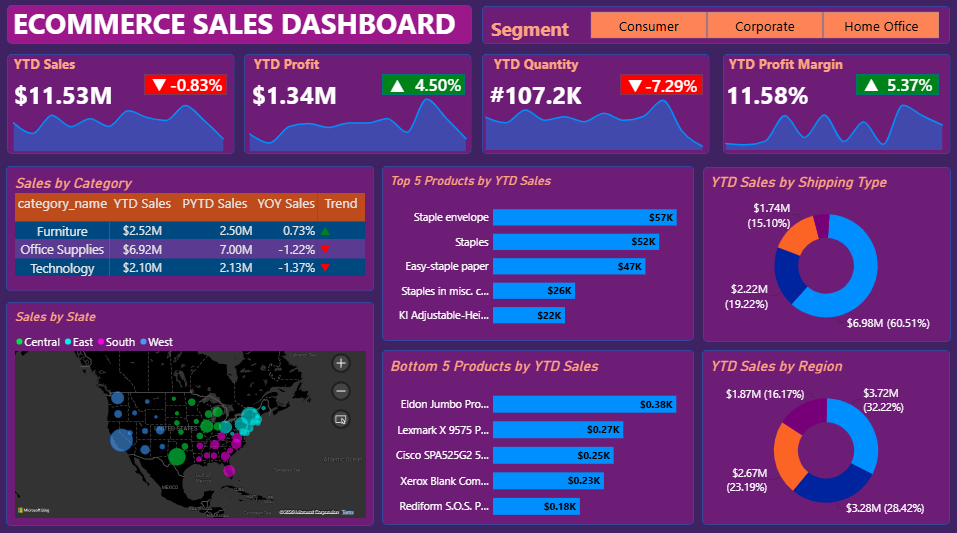

This screenshot's page, from the dashboard's own definition file:
{"tool":"powerbi","page":{"name":"Page 1","canvas":[1920,1080],"ordinal":0},"visuals":[{"type":"shape","box":[1409.2,337.3,496,350],"z":0},{"type":"shape","box":[16,608,736,448],"z":1000},{"type":"shape","box":[1408,704,496,350],"z":2000},{"type":"shape","box":[960,16,944,76],"z":3000},{"type":"shape","box":[18,14,930,78],"z":4000},{"type":"textbox","box":[30,12,912,80],"z":5000},{"type":"textbox","box":[986,36,174,56],"z":6000},{"type":"donutChart","title":"YTD Sales by Shipping Type","fields":{"Category":["ecommerce_data.shipping_type"],"Y":["ecommerce_data.YTD Sales"]},"box":[1408,336,496,352],"z":7000},{"type":"shape","box":[17.3,111.8,455,200],"z":8000},{"type":"shape","box":[15.4,335.4,736.4,250.6],"z":9000},{"type":"shape","box":[492.2,112.2,455,200],"z":10000},{"type":"shape","box":[768,704,624,350],"z":11000},{"type":"shape","box":[968,112,455,200],"z":12000},{"type":"shape","box":[768,336,624,350],"z":13000},{"type":"shape","box":[1440,112,455,200],"z":14000},{"type":"areaChart","title":"YTD Sales","fields":{"Category":["Calendar.Month"],"Y":["Sum(ecommerce_data.sales_per_order)"]},"box":[0,175.4,481.9,146.5],"z":15000},{"type":"textbox","box":[32,112,160,48],"z":16000},{"type":"donutChart","title":"YTD Sales by Region","fields":{"Category":["ecommerce_data.customer_region"],"Y":["ecommerce_data.YTD Sales"]},"box":[1408,704,496,355],"z":18000},{"type":"barChart","title":"Bottom 5 Products by YTD Sales","fields":{"Category":["ecommerce_data.product_name"],"Y":["ecommerce_data.YTD Sales"]},"box":[768,704,624,368],"z":19000},{"type":"barChart","title":"Top 5 Products by YTD Sales","fields":{"Category":["ecommerce_data.product_name"],"Y":["ecommerce_data.YTD Sales"]},"box":[768,336,624,352],"z":20000},{"type":"areaChart","fields":{"Category":["Calendar.Month"],"Y":["Sum(ecommerce_data.profit_per_order)"]},"box":[472.3,175.4,495.4,146.5],"z":21000},{"type":"areaChart","fields":{"Category":["Calendar.Month"],"Y":["Sum(ecommerce_data.order_quantity)"]},"box":[944,176,496,144],"z":23000},{"type":"textbox","box":[992,112,224,48],"z":24000},{"type":"areaChart","fields":{"Category":["Calendar.Month"],"Y":["ecommerce_data.Profit Margin"]},"box":[1424,176,496,144],"z":25000},{"type":"textbox","box":[512.8,111.8,208.2,48.2],"z":27000},{"type":"textbox","box":[1461.2,111.8,300.7,48.2],"z":28000},{"type":"pivotTable","title":"Sales by Category","fields":{"Rows":["ecommerce_data.category_name"],"Values":["ecommerce_data.YTD Sales","ecommerce_data.PYTD Sales","ecommerce_data.YOY Sales","ecommerce_data.Trend"]},"box":[17.3,337.3,736.4,250.6],"z":30000},{"type":"map","title":"Sales by State","fields":{"Series":["ecommerce_data.customer_region"],"Size":["ecommerce_data.YTD Sales"],"X":["us_state_long_lat_codes.longitude"],"Y":["us_state_long_lat_codes.latitude"]},"box":[17.3,607.2,734.5,447.2],"z":30001},{"type":"shape","box":[292,152,166,42],"z":30002},{"type":"shape","box":[1244,152,166,42],"z":30003},{"type":"shape","box":[768,152,166,42],"z":30004},{"type":"shape","box":[1716,152,166,42],"z":30005},{"type":"cardVisual","fields":{"Data":["ecommerce_data.YOY Sales"]},"box":[328,152,146,40],"z":30006},{"type":"cardVisual","fields":{"Data":["ecommerce_data.Trend"]},"box":[292,152,84,40],"z":30007},{"type":"cardVisual","fields":{"Data":["ecommerce_data.YOY Profit"]},"box":[818,152,126,40],"z":30008},{"type":"cardVisual","fields":{"Data":["ecommerce_data.Trend"]},"box":[1244,152,84,42],"z":30009},{"type":"cardVisual","fields":{"Data":["ecommerce_data.Profit Icon"]},"box":[768,152,84,42],"z":30010},{"type":"cardVisual","fields":{"Data":["ecommerce_data.YOY Qty"]},"box":[1278.9,152.2,145.6,42.2],"z":30011},{"type":"cardVisual","fields":{"Data":["ecommerce_data.Profit Icon"]},"box":[832,192,10,12],"z":30012},{"type":"cardVisual","fields":{"Data":["ecommerce_data.Profit Icon"]},"box":[1716,152,68,40],"z":30013},{"type":"cardVisual","fields":{"Data":["ecommerce_data.YOY Profit Margin"]},"box":[1762,152,126,40],"z":30014},{"type":"slicer","fields":{"Values":["ecommerce_data.customer_segment"]},"box":[1160,16,746,76],"z":30015},{"type":"cardVisual","fields":{"Data":["ecommerce_data.YTD Concate Qty"]},"box":[967.7,136.9,300.7,111.8],"z":30018},{"type":"cardVisual","fields":{"Data":["ecommerce_data.YTD Sales"]},"box":[15.4,136.9,300.7,111.8],"z":30019},{"type":"cardVisual","fields":{"Data":["ecommerce_data.YTD Profit"]},"box":[491.6,136.9,300.7,111.8],"z":30020},{"type":"cardVisual","fields":{"Data":["ecommerce_data.YTD Profit Marigin"]},"box":[1440.6,136.7,300.7,111.8],"z":30021}]}

Visuals, with their boxes in screenshot pixels (x1, y1, x2, y2), scaled from the page's 1920x1080 canvas onto the 957x533 screenshot:
shape: 702:166:950:339
shape: 8:300:375:521
shape: 702:347:949:520
shape: 478:8:949:45
shape: 9:7:473:45
textbox: 15:6:470:45
textbox: 491:18:578:45
"YTD Sales by Shipping Type" donutChart: 702:166:949:340
shape: 9:55:235:154
shape: 8:166:375:289
shape: 245:55:472:154
shape: 383:347:694:520
shape: 482:55:709:154
shape: 383:166:694:339
shape: 718:55:945:154
"YTD Sales" areaChart: 0:87:240:159
textbox: 16:55:96:79
"YTD Sales by Region" donutChart: 702:347:949:523
"Bottom 5 Products by YTD Sales" barChart: 383:347:694:529
"Top 5 Products by YTD Sales" barChart: 383:166:694:340
areaChart - Calendar.Month x Sum(ecommerce_data.profit_per_order): 235:87:482:159
areaChart - Calendar.Month x Sum(ecommerce_data.order_quantity): 471:87:718:158
textbox: 494:55:606:79
areaChart - Calendar.Month x ecommerce_data.Profit Margin: 710:87:956:158
textbox: 256:55:359:79
textbox: 728:55:878:79
"Sales by Category" pivotTable: 9:166:376:290
"Sales by State" map: 9:300:375:520
shape: 146:75:228:96
shape: 620:75:703:96
shape: 383:75:466:96
shape: 855:75:938:96
cardVisual - ecommerce_data.YOY Sales: 163:75:236:95
cardVisual - ecommerce_data.Trend: 146:75:187:95
cardVisual - ecommerce_data.YOY Profit: 408:75:471:95
cardVisual - ecommerce_data.Trend: 620:75:662:96
cardVisual - ecommerce_data.Profit Icon: 383:75:425:96
cardVisual - ecommerce_data.YOY Qty: 637:75:710:96
cardVisual - ecommerce_data.Profit Icon: 415:95:420:101
cardVisual - ecommerce_data.Profit Icon: 855:75:889:95
cardVisual - ecommerce_data.YOY Profit Margin: 878:75:941:95
slicer - ecommerce_data.customer_segment: 578:8:950:45
cardVisual - ecommerce_data.YTD Concate Qty: 482:68:632:123
cardVisual - ecommerce_data.YTD Sales: 8:68:158:123
cardVisual - ecommerce_data.YTD Profit: 245:68:395:123
cardVisual - ecommerce_data.YTD Profit Marigin: 718:67:868:123
